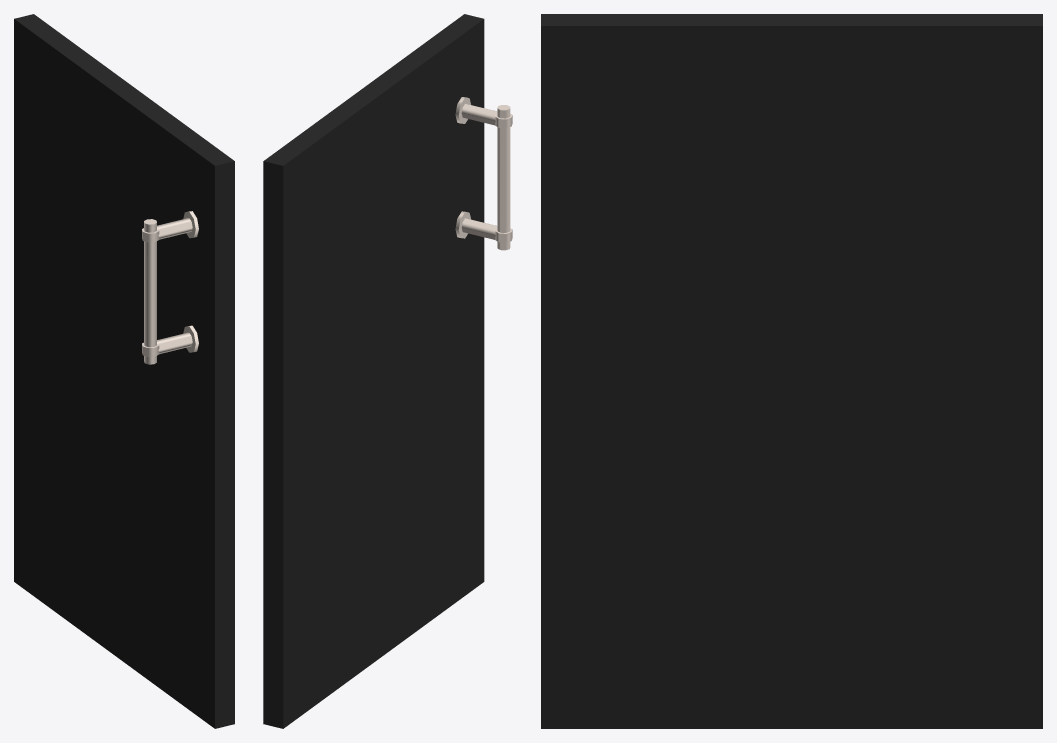
Rendered from Cabinet_749dbb3c.obj.
3 renders of one model, left to right at view 1: azimuth 30°, elevation 25°; view 2: azimuth 150°, elevation 25°; view 3: azimuth 270°, elevation 25°, orthographic. The views are drawn at different scales.
Parts seen in each view (by area): view 1: FP425:Door_18e78a7e; view 2: FP425:Door_18e78a7e; view 3: FP425:Door_18e78a7e.
Boxes of the visible parts, bbox=[...] form: FP425:Door_18e78a7e: bbox=[14, 14, 234, 728]; FP425:Door_18e78a7e: bbox=[263, 14, 512, 728]; FP425:Door_18e78a7e: bbox=[541, 14, 1042, 728].
Size of the model in its own units: 0.0894 by 0.6908 by 0.4471.
